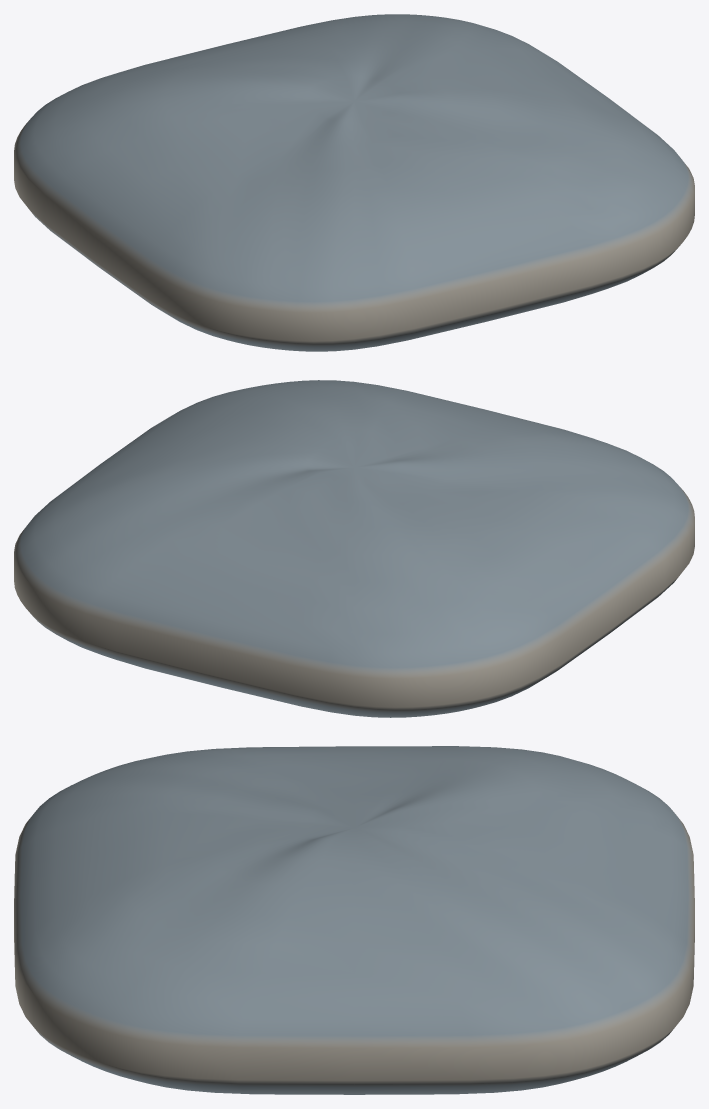
File: diamond-cushion-v1.glb
The picture shows the model from 3 angles, top to bottom: view 1: azimuth 30°, elevation 25°; view 2: azimuth 150°, elevation 25°; view 3: azimuth 270°, elevation 25°; orthographic projection. The views are drawn at different scales.
Bounding box in the file's own units: 0.42 × 0.1385 × 0.42.
